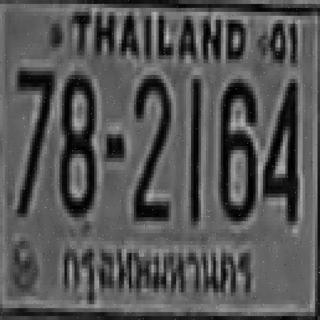N01: (187, 77, 200, 223), (187, 75, 200, 221)
N02: (132, 73, 168, 219)
N04: (262, 77, 296, 219)
N06: (218, 75, 256, 217)
N07: (15, 67, 52, 213)
N08: (57, 71, 94, 213)
P04: (58, 238, 261, 308)
